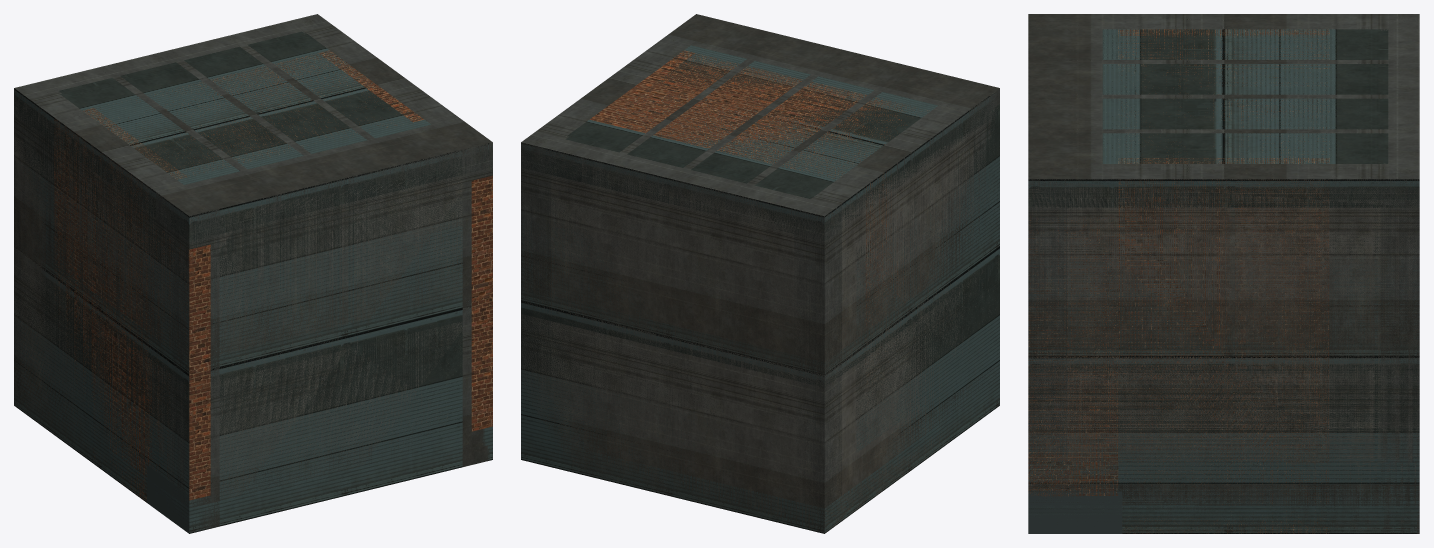
The model's file is Rainline_Modular_City_v2.glb.
The picture shows the model from 3 angles, left to right: view 1: azimuth 30°, elevation 25°; view 2: azimuth 150°, elevation 25°; view 3: azimuth 270°, elevation 25°; orthographic projection. The views are drawn at different scales.
Parts seen in each view (by area): view 1: foundation__plaster, bridge__steel, roof__steel, frame__steel, facade_workshop__brick, roof__trim, frame__trim, facade_workshop__trim, bridge__trim, gantry__trim, props__trim, gantry__steel (+3 smaller); view 2: foundation__plaster, frame__steel, roof__steel, roof__trim, bridge__steel, facade_workshop__brick, frame__trim, facade_workshop__trim, bridge__trim, gantry__steel, gantry__trim, props__trim; view 3: foundation__plaster, frame__steel, bridge__steel, facade_workshop__brick, roof__trim, frame__trim, gantry__steel, facade_workshop__trim, gantry__trim, bridge__trim, roof__steel, facade_apartment__dark (+3 smaller).
Part boxes in pixels (x1=…): foundation__plaster: x1=14, y1=90, x2=492, y2=529; bridge__steel: x1=14, y1=104, x2=492, y2=509; roof__steel: x1=14, y1=189, x2=492, y2=533; frame__steel: x1=14, y1=31, x2=492, y2=532; facade_workshop__brick: x1=54, y1=50, x2=492, y2=502; roof__trim: x1=14, y1=14, x2=492, y2=367; frame__trim: x1=14, y1=31, x2=492, y2=531; facade_workshop__trim: x1=156, y1=118, x2=490, y2=248; bridge__trim: x1=35, y1=19, x2=471, y2=225; gantry__trim: x1=14, y1=91, x2=491, y2=502; props__trim: x1=50, y1=123, x2=492, y2=217; gantry__steel: x1=45, y1=170, x2=157, y2=379; foundation__plaster: x1=521, y1=93, x2=999, y2=533; frame__steel: x1=521, y1=45, x2=999, y2=533; roof__steel: x1=521, y1=166, x2=999, y2=524; roof__trim: x1=521, y1=14, x2=999, y2=366; bridge__steel: x1=521, y1=104, x2=999, y2=461; facade_workshop__brick: x1=590, y1=50, x2=929, y2=381; frame__trim: x1=521, y1=136, x2=999, y2=533; facade_workshop__trim: x1=663, y1=15, x2=997, y2=112; bridge__trim: x1=542, y1=19, x2=978, y2=211; gantry__steel: x1=856, y1=209, x2=938, y2=452; gantry__trim: x1=521, y1=106, x2=998, y2=532; props__trim: x1=521, y1=89, x2=999, y2=236; foundation__plaster: x1=1028, y1=179, x2=1419, y2=533; frame__steel: x1=1028, y1=29, x2=1419, y2=533; bridge__steel: x1=1028, y1=197, x2=1419, y2=516; facade_workshop__brick: x1=1028, y1=29, x2=1329, y2=533; roof__trim: x1=1028, y1=14, x2=1419, y2=349; frame__trim: x1=1028, y1=29, x2=1419, y2=533; gantry__steel: x1=1098, y1=249, x2=1349, y2=469; facade_workshop__trim: x1=1032, y1=14, x2=1102, y2=217; gantry__trim: x1=1028, y1=180, x2=1419, y2=533; bridge__trim: x1=1028, y1=25, x2=1419, y2=168; roof__steel: x1=1028, y1=264, x2=1419, y2=533; facade_apartment__dark: x1=1028, y1=491, x2=1122, y2=533.
Size of the model in its own units: 1 by 1 by 1.
Materials: 11 (7 with a texture image).
